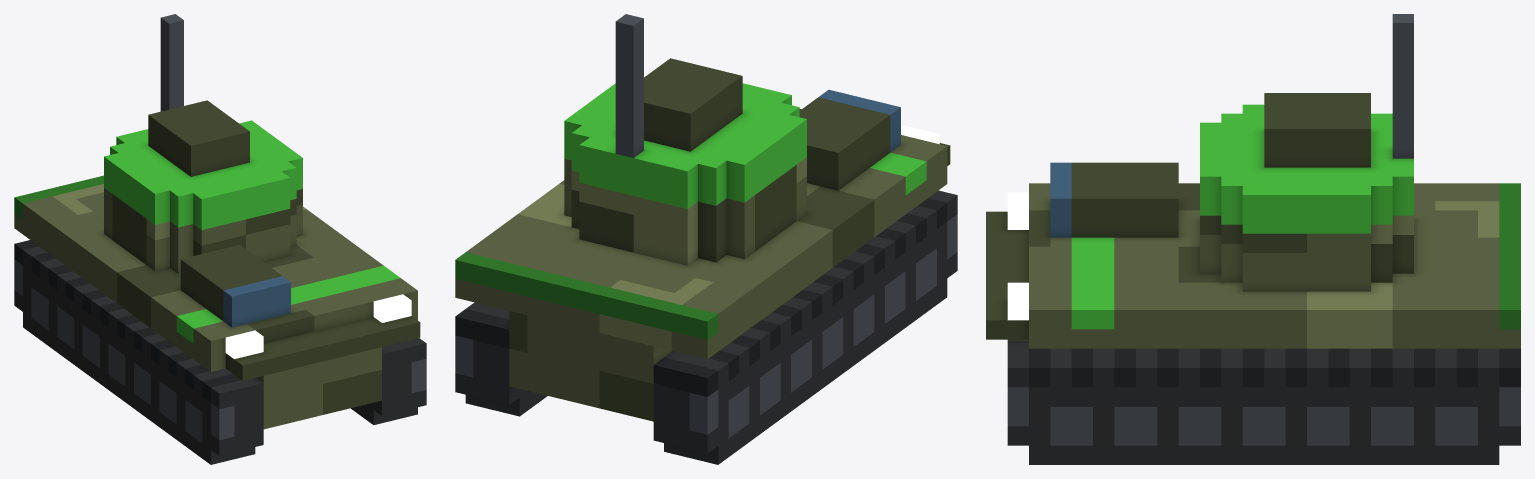
3 renders of one model, left to right at view 1: azimuth 30°, elevation 25°; view 2: azimuth 150°, elevation 25°; view 3: azimuth 270°, elevation 25°, orthographic. The views are drawn at different scales.
Visible parts, largest first — view 1: cm_aa_h_3_body; view 2: cm_aa_h_3_body; view 3: cm_aa_h_3_body.
Boxes of the visible parts, <box> form: cm_aa_h_3_body: <box>14,14,426,464</box>; cm_aa_h_3_body: <box>455,14,957,464</box>; cm_aa_h_3_body: <box>986,14,1520,464</box>.
Bounding box in the file's own units: 0.875 × 1.25 × 1.56.
Materials: 1 (1 with a texture image).
